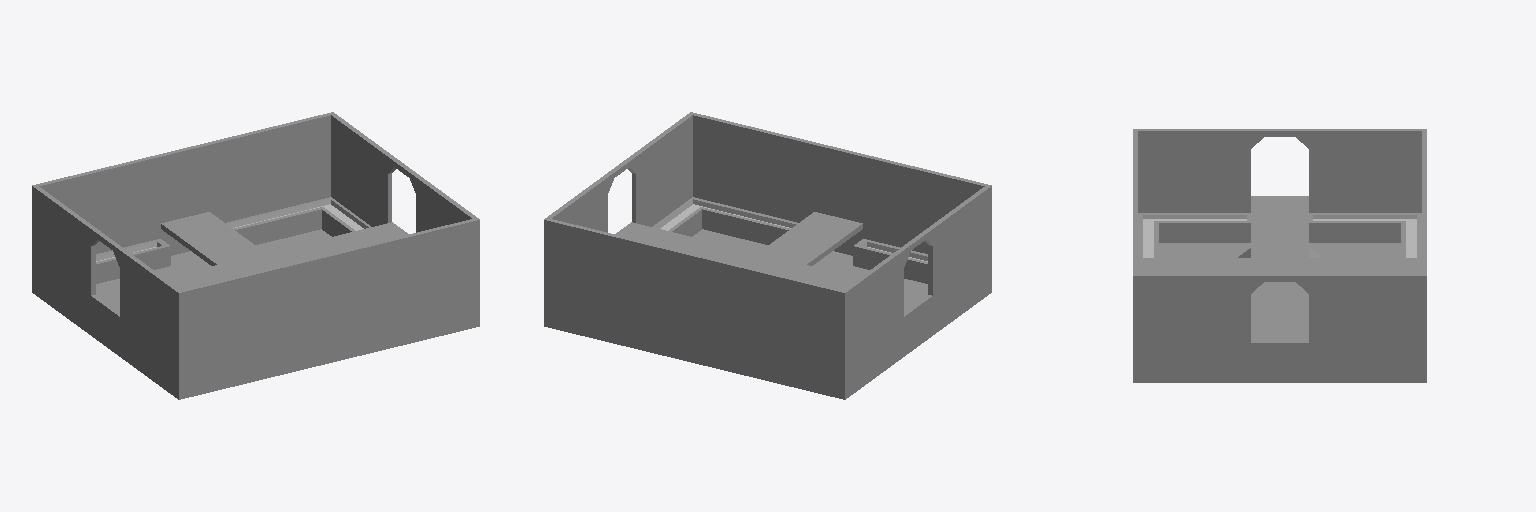
The model's file is RoomPlaceHolder.obj.
3 renders of one model, left to right at view 1: azimuth 30°, elevation 25°; view 2: azimuth 150°, elevation 25°; view 3: azimuth 270°, elevation 25°, orthographic.
Size of the model in its own units: 12.4 by 4.2 by 10.49.